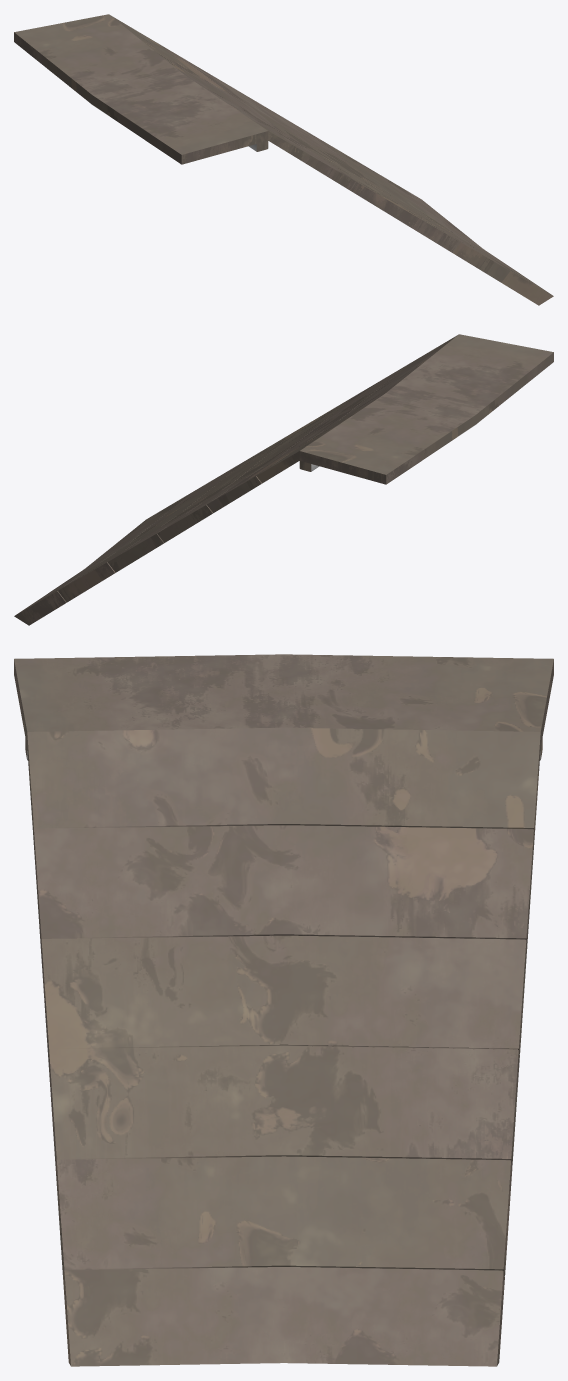
File: STAI_T1_Ceiling.fbx
The picture shows the model from 3 angles, top to bottom: view 1: azimuth 30°, elevation 25°; view 2: azimuth 150°, elevation 25°; view 3: azimuth 270°, elevation 25°; orthographic projection. The views are drawn at different scales.
Parts seen in each view (by area): view 1: STAI_T1_Ceiling; view 2: STAI_T1_Ceiling; view 3: STAI_T1_Ceiling.
Boxes of the visible parts, box(x1,y1,x2,y2) form: STAI_T1_Ceiling: box(14, 14, 553, 305); STAI_T1_Ceiling: box(14, 334, 553, 625); STAI_T1_Ceiling: box(14, 654, 553, 1366).
Size of the model in its own units: 12.44 by 7.65 by 9.13.
